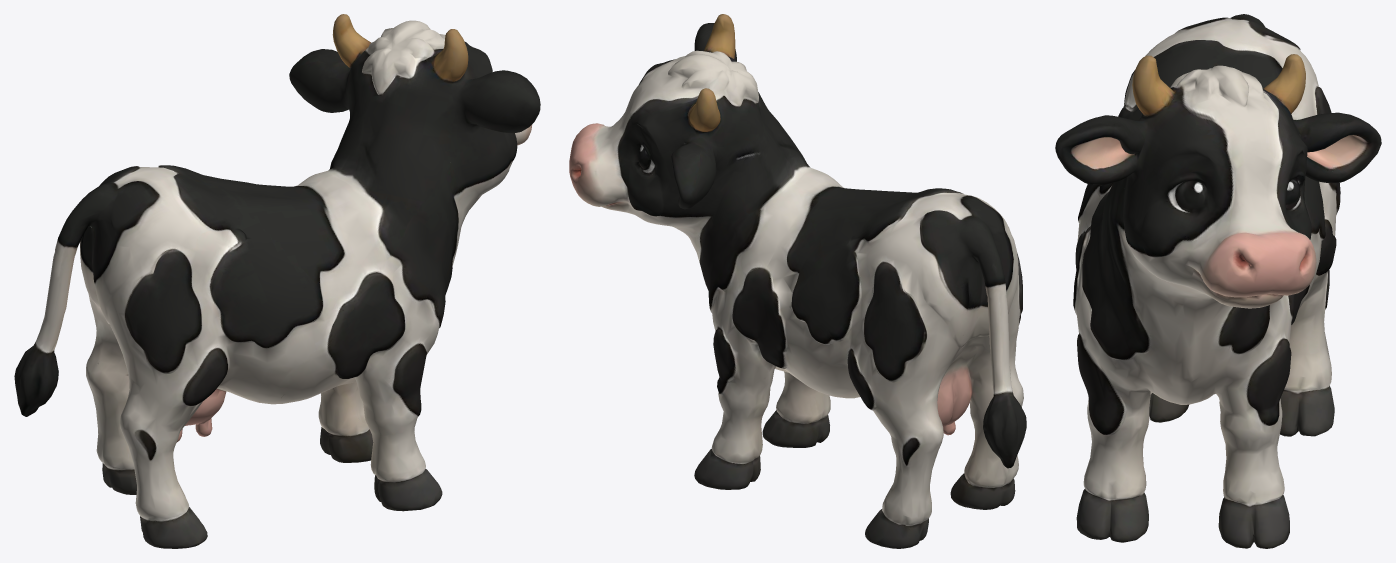
File: cow.glb
3 renders of one model, left to right at view 1: azimuth 30°, elevation 25°; view 2: azimuth 150°, elevation 25°; view 3: azimuth 270°, elevation 25°, orthographic. The views are drawn at different scales.
Visible parts, largest first — view 1: tripo_node_576bb457-44da-4c46-a02a-b58b5b8e984e; view 2: tripo_node_576bb457-44da-4c46-a02a-b58b5b8e984e; view 3: tripo_node_576bb457-44da-4c46-a02a-b58b5b8e984e.
Part boxes in pixels (x1,y1,x2,y2): tripo_node_576bb457-44da-4c46-a02a-b58b5b8e984e: (14, 14, 540, 548); tripo_node_576bb457-44da-4c46-a02a-b58b5b8e984e: (569, 14, 1026, 548); tripo_node_576bb457-44da-4c46-a02a-b58b5b8e984e: (1055, 14, 1381, 548).
Size of the model in its own units: 1 by 0.8691 by 0.5079.
Materials: 1 (1 with a texture image).
